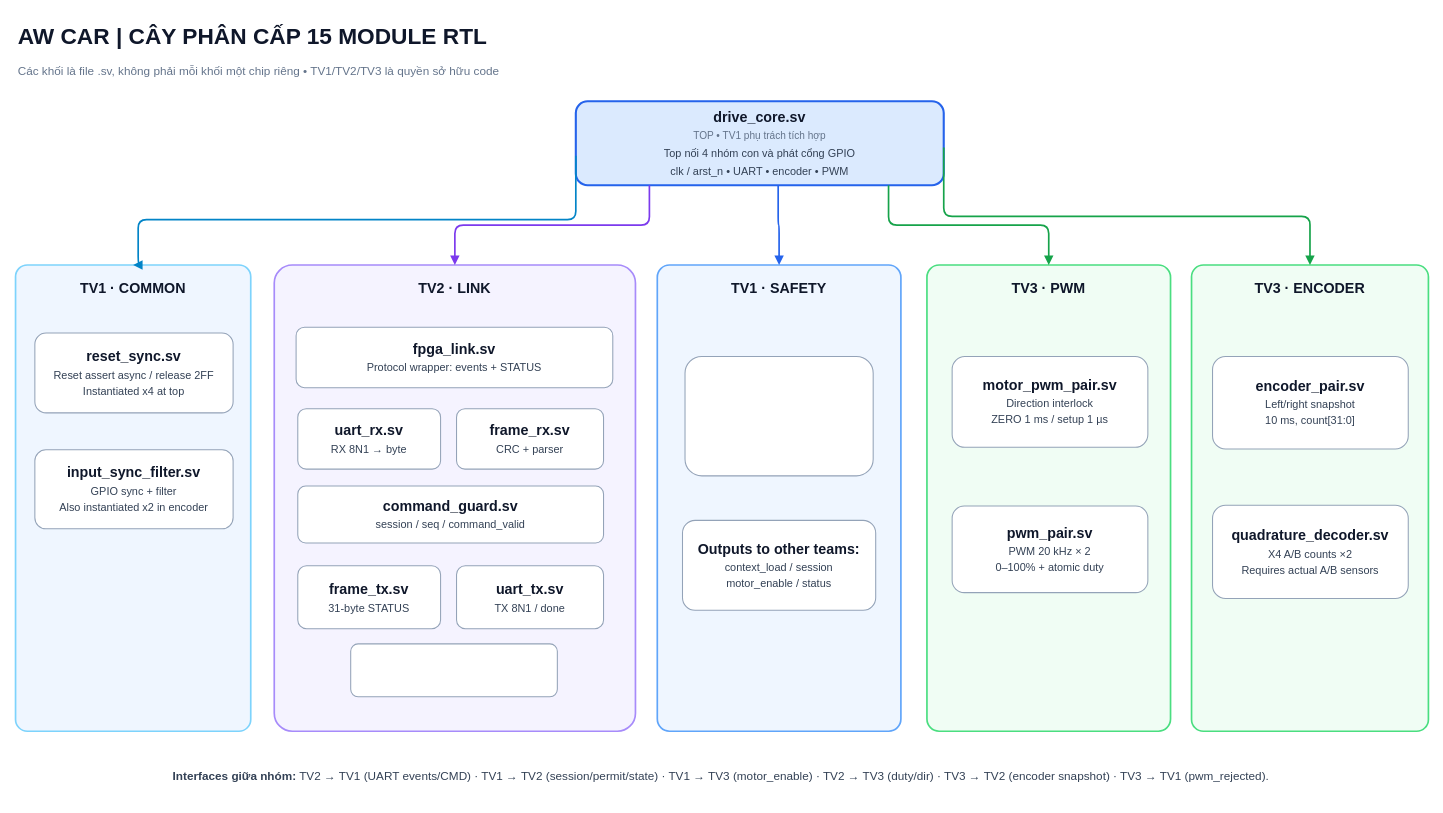
Some shapes in this 1443 by 813 pixel diagram are drawn without their labels. Each missing label, with the centre of its shape:
crc16_byte.sv Shared by frame_rx and frame_tx: pixel 454 670
safety_fsm.sv DISARMED, HANDSHAKE ARM_PENDING, ARMED FAULT, CLEAR_WAIT: pixel 778 416
